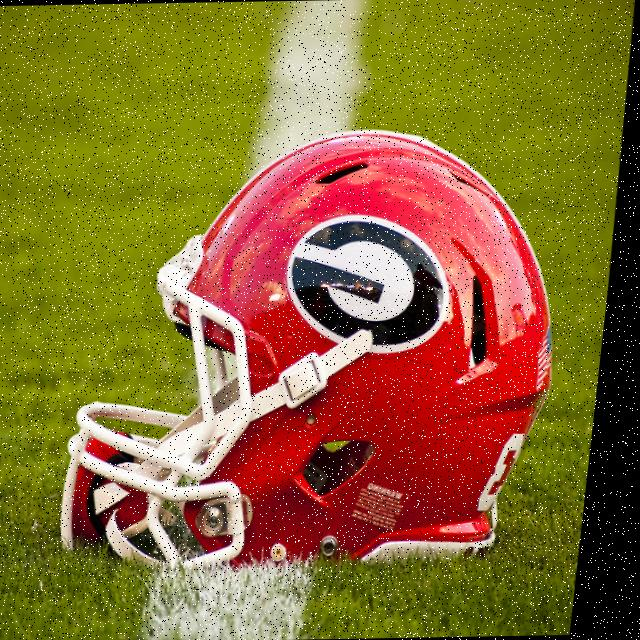illegal_helmet: (46, 115, 593, 578)
